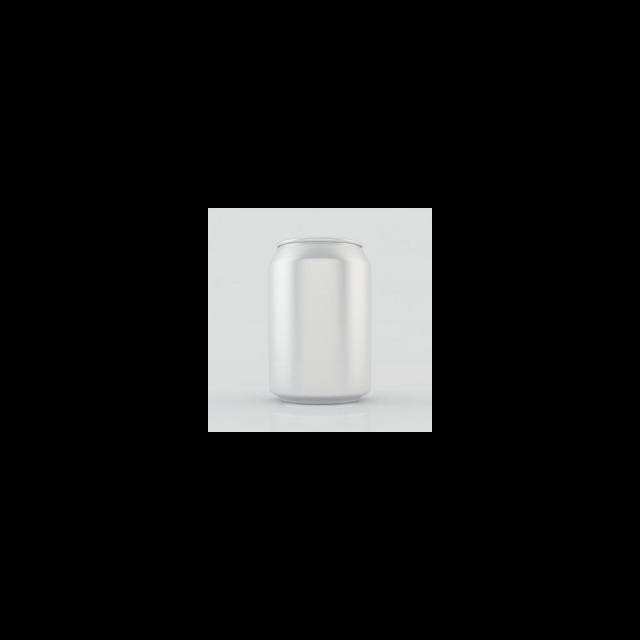metal: (255, 226, 386, 413)
